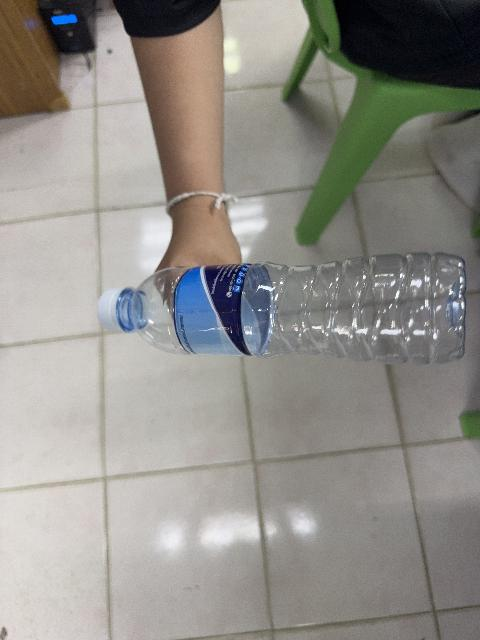bottle: (99, 254, 465, 363)
